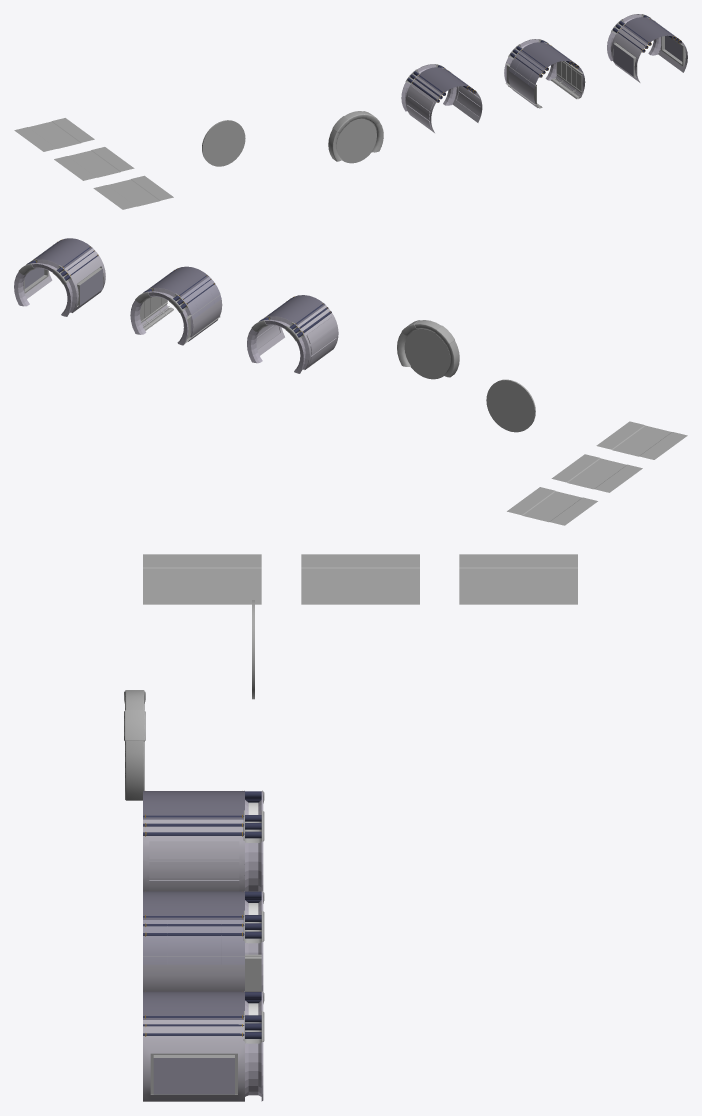
The model's file is Hallway_UV.fbx.
3 views of the same model, one above another, from view 1: azimuth 30°, elevation 25°; view 2: azimuth 150°, elevation 25°; view 3: azimuth 270°, elevation 25° (orthographic). The views are drawn at different scales.
Parts seen in each view (by area): view 1: Wall_up (×3), Wall_down_HP2, Wall_down (×2), Hallway_Door_Ausgang1, Hallway_Floor1, _Hallway_Door, Floor_Universe (×2), Floor_Sides, Floor_Seiten, Wall_middle_HP, Doorframe_01 (×2), Doorframe_1 (+7 smaller); view 2: Wall_up (×3), Hallway_Door_Ausgang1, Hallway_Floor1, Wall_down_HP2, Doorframe_01 (×2), Wall_down (×2), _Hallway_Door, Floor_Universe (×2), Floor_Sides, Floor_Seiten, Doorframe_01_LP, Wall_middle_HP (+2 smaller); view 3: Wall_up (×3), Wall_down (×2), Wall_down_HP2, Hallway_Floor1, Floor_Universe (×2), Wall_middle_HP, Floor_Sides, Floor_Seiten, Window, Hallway_Pipes1 (×2), Hallway_pipes_LP, Doorframe_1 (+2 smaller).
Part boxes in pixels (x1,y1,x2,y2): Wall_up (×3): (417, 17, 675, 94); Wall_down_HP2: (405, 76, 482, 132); Wall_down (×2): (508, 19, 687, 107); Hallway_Door_Ausgang1: (202, 120, 245, 166); Hallway_Floor1: (93, 175, 173, 209); _Hallway_Door: (336, 119, 376, 163); Floor_Universe (×2): (33, 125, 119, 177); Floor_Sides: (14, 118, 94, 151); Floor_Seiten: (54, 147, 134, 180); Wall_middle_HP: (509, 45, 584, 88); Doorframe_01 (×2): (504, 14, 661, 86); Doorframe_1: (328, 111, 383, 161); Wall_up (×3): (34, 238, 325, 325); Hallway_Door_Ausgang1: (486, 379, 535, 432); Hallway_Floor1: (596, 421, 687, 459); Wall_down_HP2: (256, 299, 338, 369); Doorframe_01 (×2): (14, 259, 193, 345); Wall_down (×2): (25, 241, 222, 341); _Hallway_Door: (404, 329, 450, 379); Floor_Universe (×2): (528, 458, 626, 518); Floor_Sides: (507, 487, 597, 525); Floor_Seiten: (551, 454, 642, 492); Doorframe_01_LP: (247, 316, 309, 373); Wall_middle_HP: (149, 271, 221, 319); Wall_up (×3): (143, 791, 244, 1019); Wall_down (×2): (143, 964, 244, 1101); Wall_down_HP2: (143, 819, 244, 891); Hallway_Floor1: (143, 554, 261, 604); Floor_Universe (×2): (301, 568, 561, 591); Wall_middle_HP: (143, 920, 244, 964); Floor_Sides: (459, 554, 577, 604); Floor_Seiten: (301, 554, 419, 604); Window: (153, 1058, 234, 1094); Hallway_Pipes1 (×2): (143, 891, 261, 1038); Hallway_pipes_LP: (143, 791, 261, 838); Doorframe_1: (125, 690, 144, 800).
Size of the model in its own units: 8.25 by 0.6882 by 2.87.
